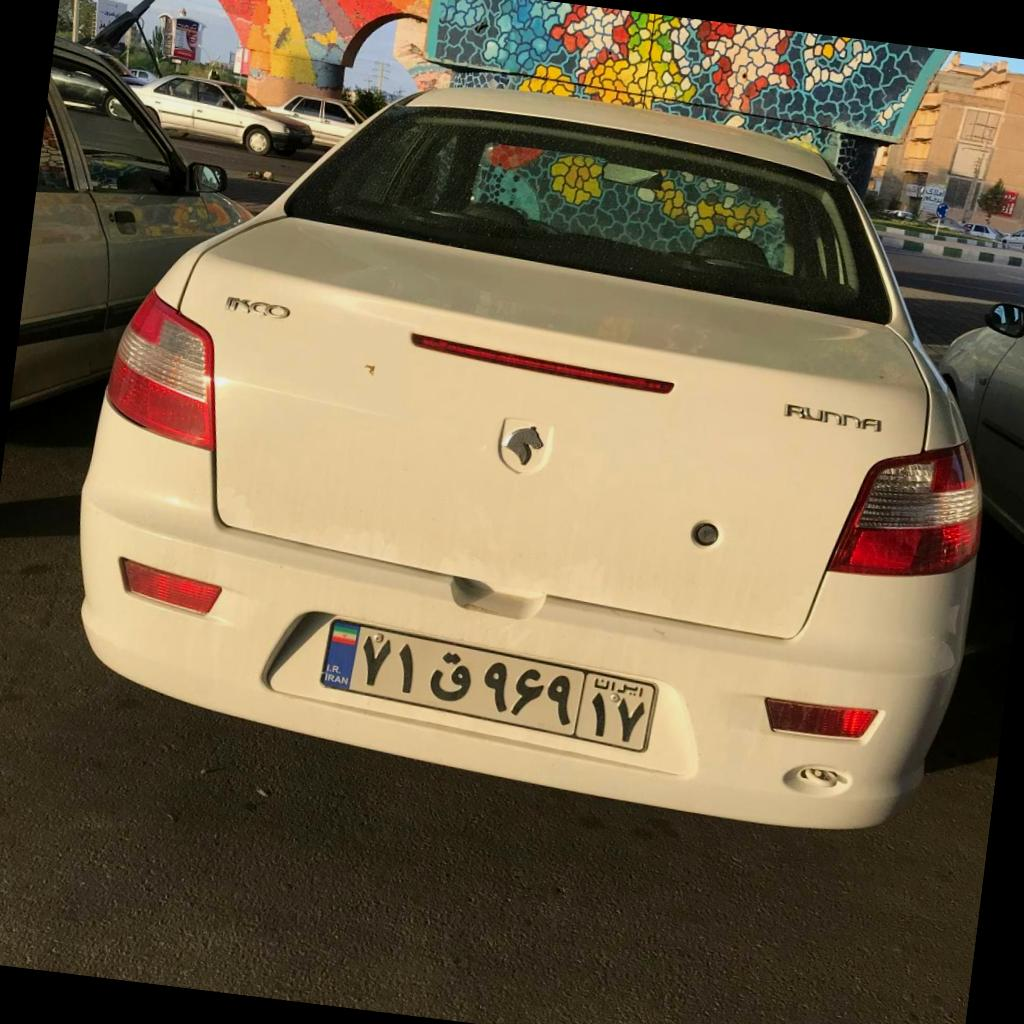Plates: (322, 618, 653, 751)
